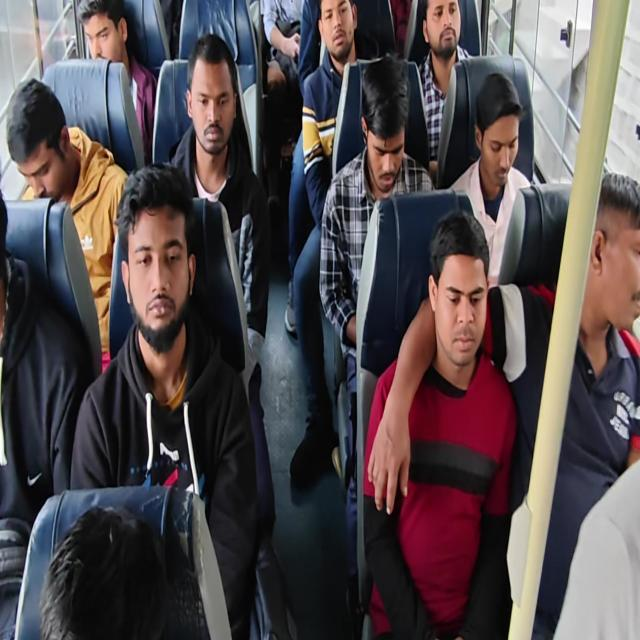person: (36, 505, 192, 640), (114, 160, 212, 358), (580, 151, 640, 351), (424, 207, 492, 374), (4, 77, 72, 201), (355, 49, 408, 198), (184, 30, 243, 157), (473, 70, 518, 191), (74, 2, 136, 68), (421, 0, 472, 58), (313, 0, 365, 51), (1, 187, 16, 331)
